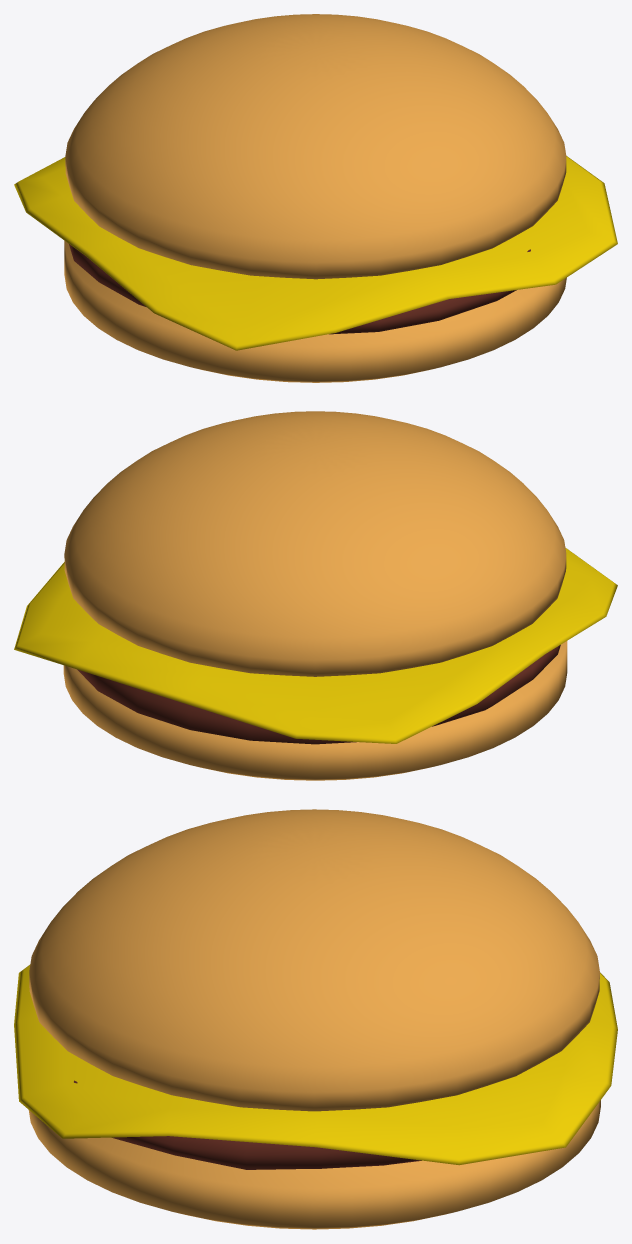
Rendered from hambuuger.fbx.
3 renders of one model, top to bottom at view 1: azimuth 30°, elevation 25°; view 2: azimuth 150°, elevation 25°; view 3: azimuth 270°, elevation 25°, orthographic. The views are drawn at different scales.
Visible parts, largest first — view 1: Sphere; view 2: Sphere; view 3: Sphere.
Boxes of the visible parts, box(x1,y1,x2,y2) form: Sphere: box(14, 14, 617, 382); Sphere: box(14, 411, 617, 780); Sphere: box(14, 809, 617, 1229).
Bounding box in the file's own units: 57.96 × 28.39 × 57.75.
